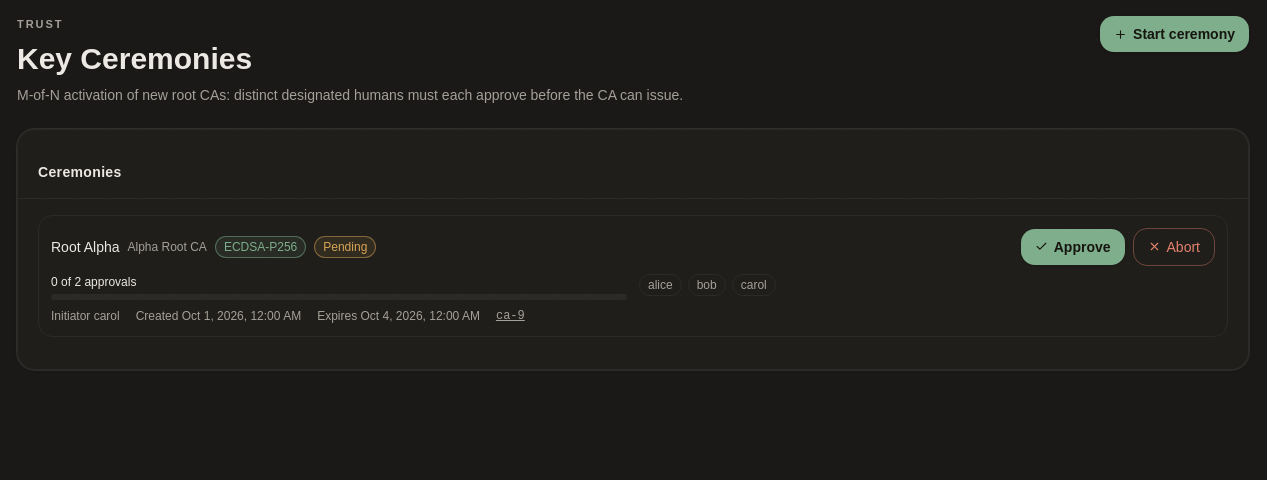
Ceremonies page › API error from approve is surfaced
Click the button "Approve" at [1073, 246], box x1=1021 y1=228 x2=1124 y2=264
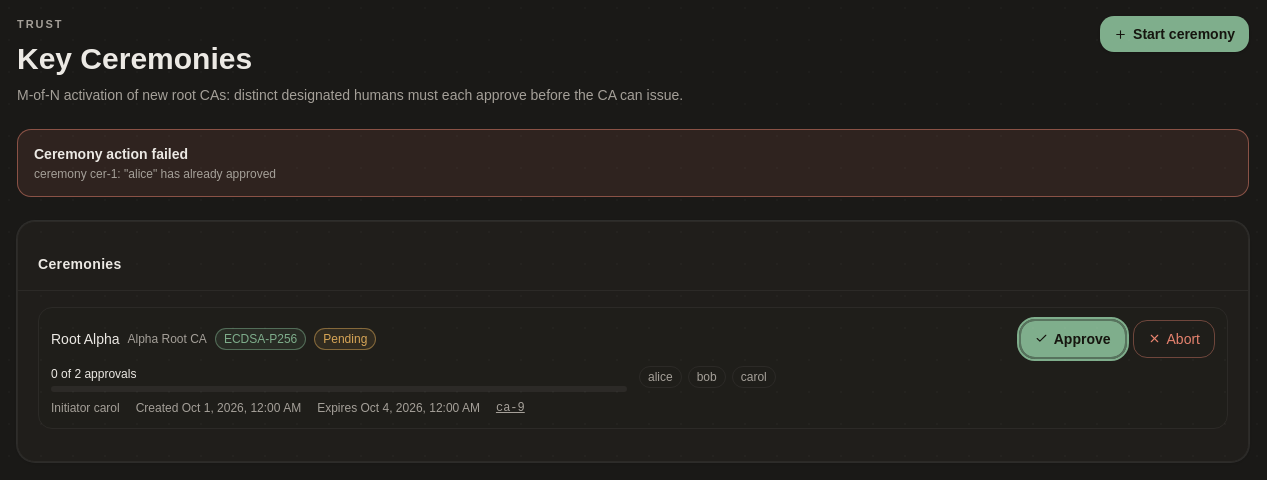
expect the text "ceremony cer-1: \"alice\" has already approved" is shown: met, box x1=34 y1=166 x2=276 y2=182
